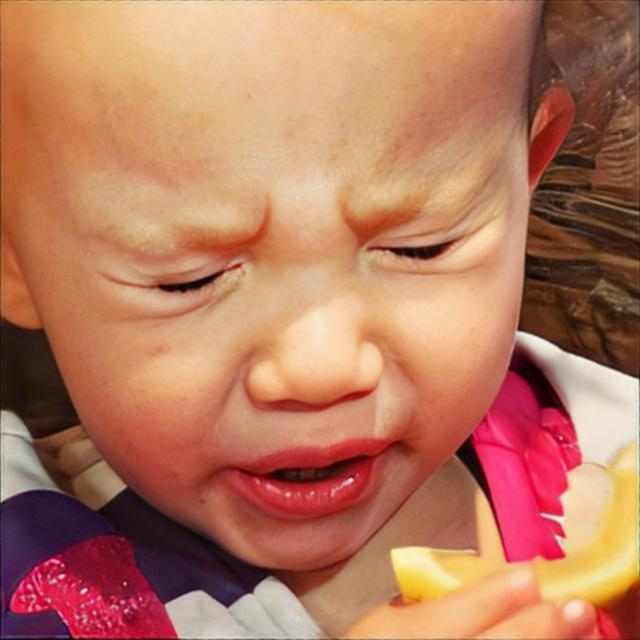sad: (0, 0, 544, 574)
